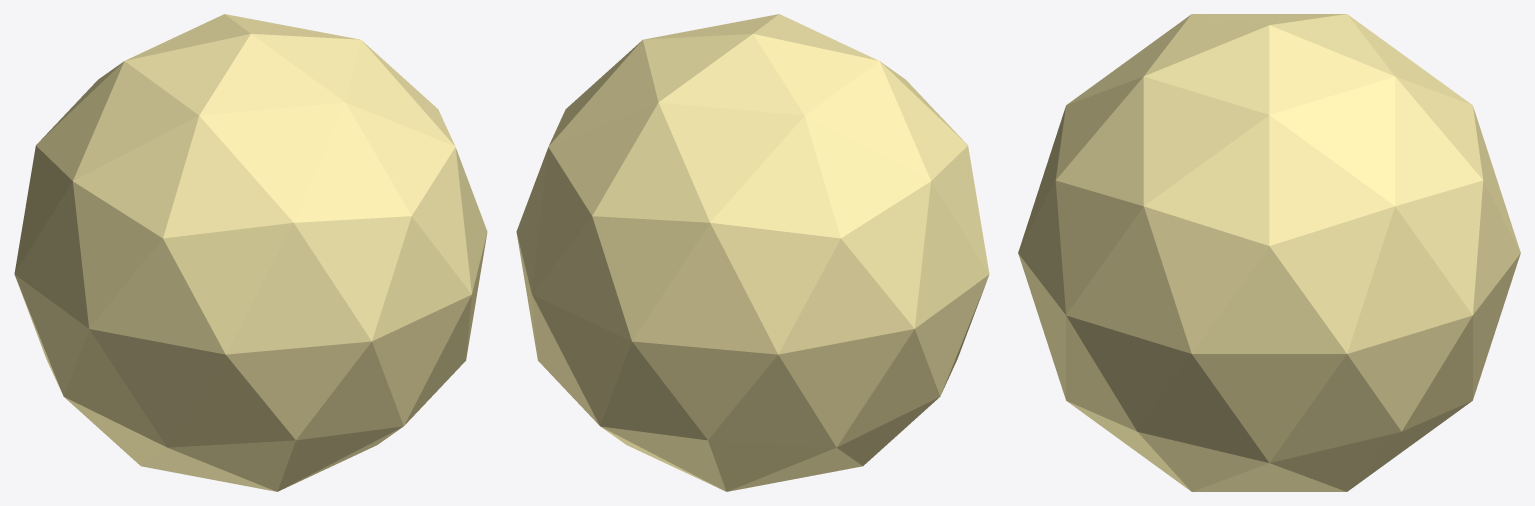
The model's file is Plane_Sun.fbx.
3 views of the same model, side by side, from view 1: azimuth 30°, elevation 25°; view 2: azimuth 150°, elevation 25°; view 3: azimuth 270°, elevation 25° (orthographic). The views are drawn at different scales.
Visible parts, largest first — view 1: Sun; view 2: Sun; view 3: Sun.
Boxes of the visible parts, x1,y1,x2,y2 form: Sun: (14, 14, 487, 491); Sun: (516, 14, 989, 491); Sun: (1018, 14, 1520, 491).
Size of the model in its own units: 15.6 by 16.4 by 16.4.
